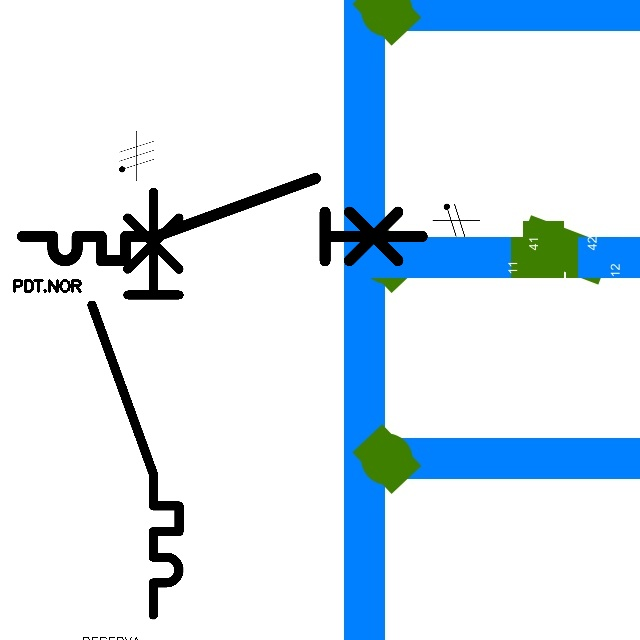interruptor_termomagnetico: (81, 181, 190, 625), (12, 168, 432, 271)
